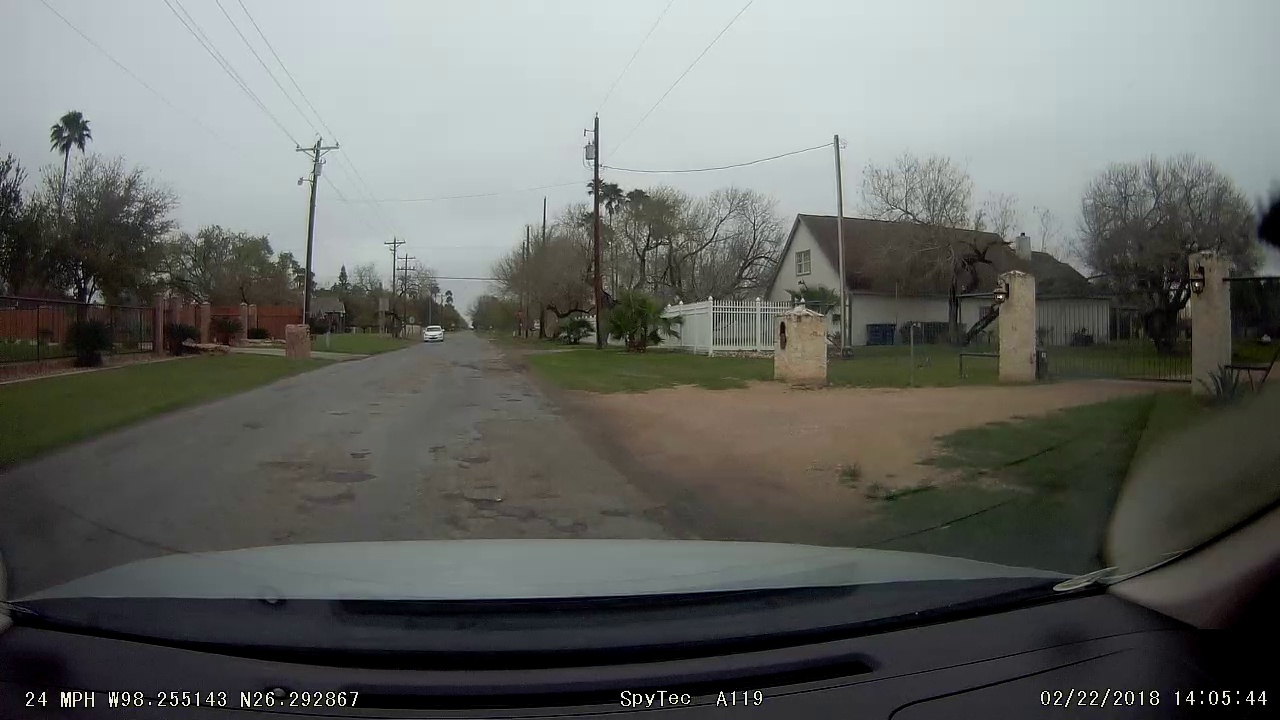pothole: (432, 444, 536, 531), (293, 451, 378, 511), (327, 400, 388, 423), (496, 391, 532, 413)
